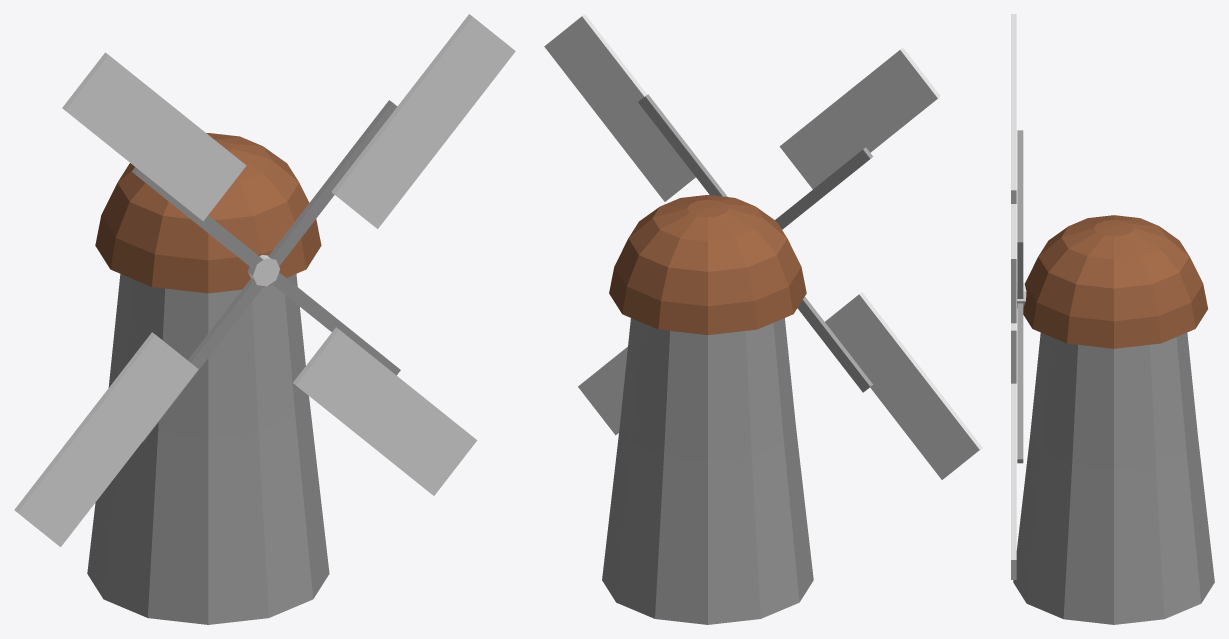
Rendered from Husya-Island-L3.fbx.
3 renders of one model, left to right at view 1: azimuth 30°, elevation 25°; view 2: azimuth 150°, elevation 25°; view 3: azimuth 270°, elevation 25°, orthographic. The views are drawn at different scales.
Visible parts, largest first — view 1: 円柱.014; view 2: 円柱.014; view 3: 円柱.014.
Part boxes in pixels (box(x1,y1,x2,y2)): 円柱.014: box(14, 14, 515, 624); 円柱.014: box(544, 14, 982, 624); 円柱.014: box(1011, 14, 1214, 624).
Bounding box in the file's own units: 1481 × 1715 × 630.
